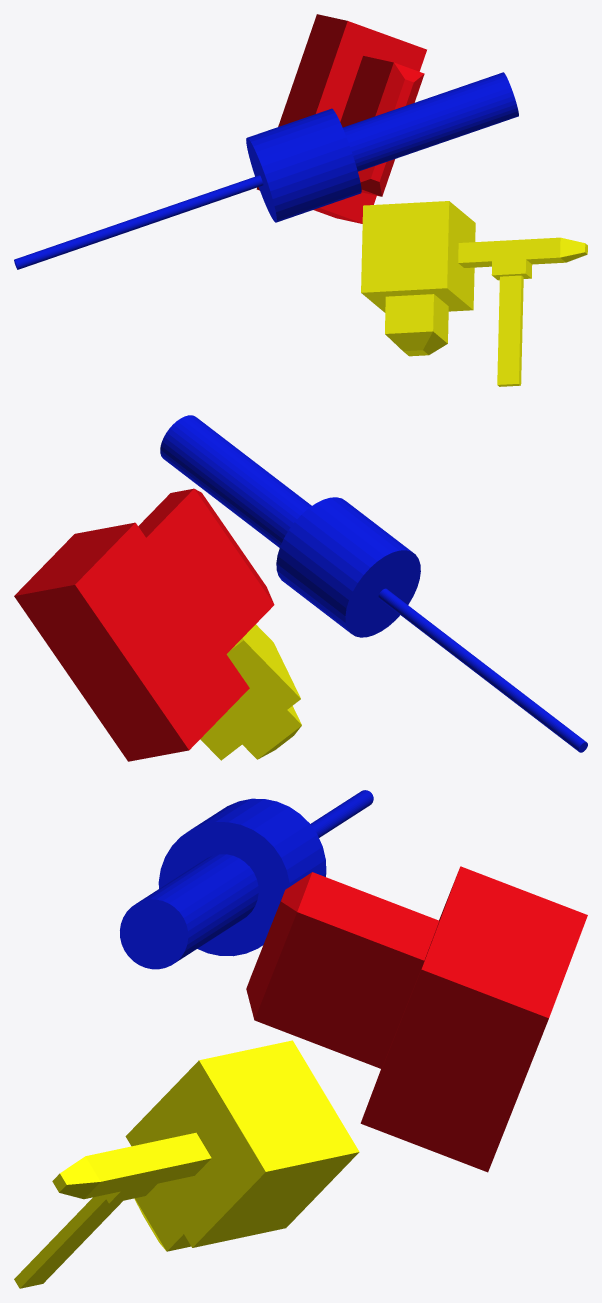
3 renders of one model, top to bottom at view 1: azimuth 30°, elevation 25°; view 2: azimuth 150°, elevation 25°; view 3: azimuth 270°, elevation 25°, orthographic. The views are drawn at different scales.
Visible parts, largest first — view 1: Cube, Cylinder, Dude; view 2: Dude, Cylinder, Cube; view 3: Dude, Cube, Cylinder.
Part boxes in pixels (box(x1,y1,x2,y2)): Cube: box(361, 201, 587, 386); Cylinder: box(14, 72, 518, 269); Dude: box(256, 14, 426, 223); Dude: box(14, 488, 274, 761); Cylinder: box(160, 415, 587, 752); Cube: box(200, 624, 301, 760); Dude: box(246, 866, 587, 1172); Cube: box(14, 1040, 359, 1288); Cylinder: box(120, 790, 373, 969).
Bounding box in the file's own units: 12.17 × 6.72 × 8.4.
